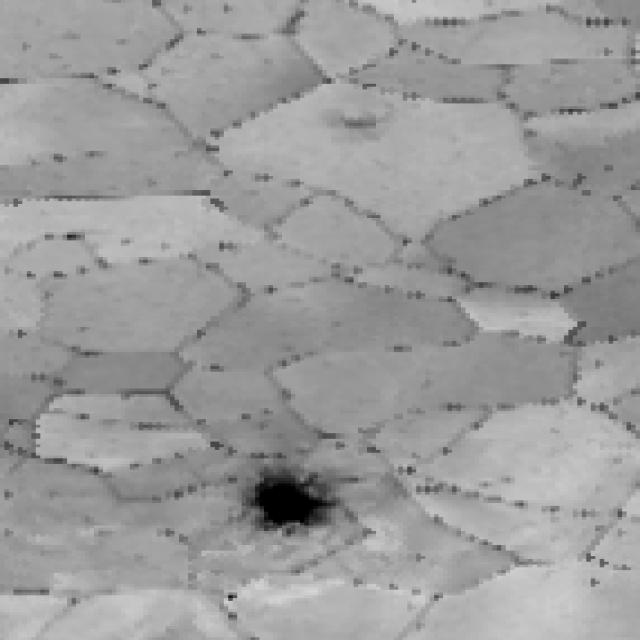good_void: (238, 465, 367, 539), (313, 101, 407, 148)
